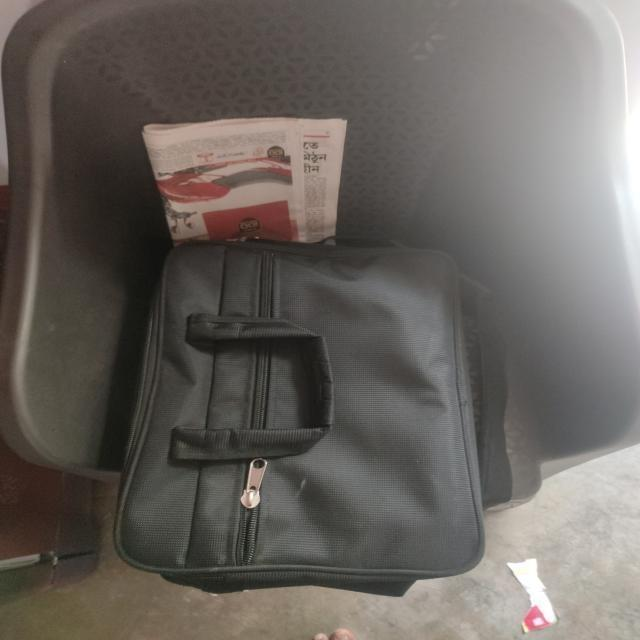Suitcase: (118, 217, 518, 611)
